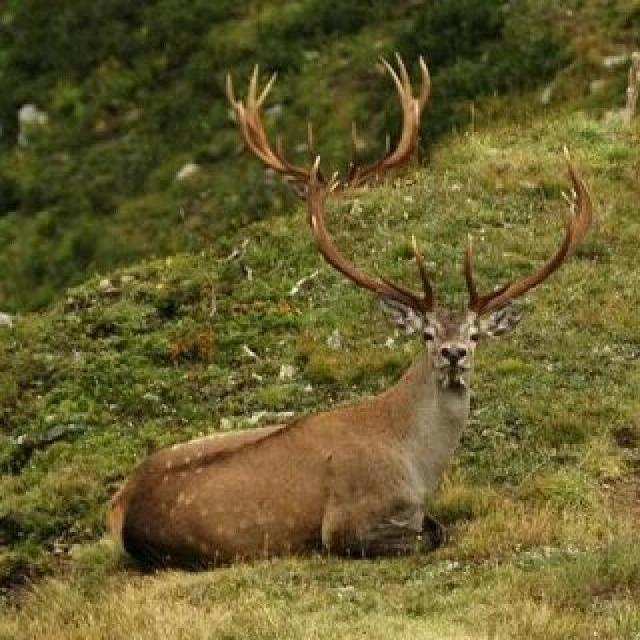deer: (46, 163, 634, 606)
